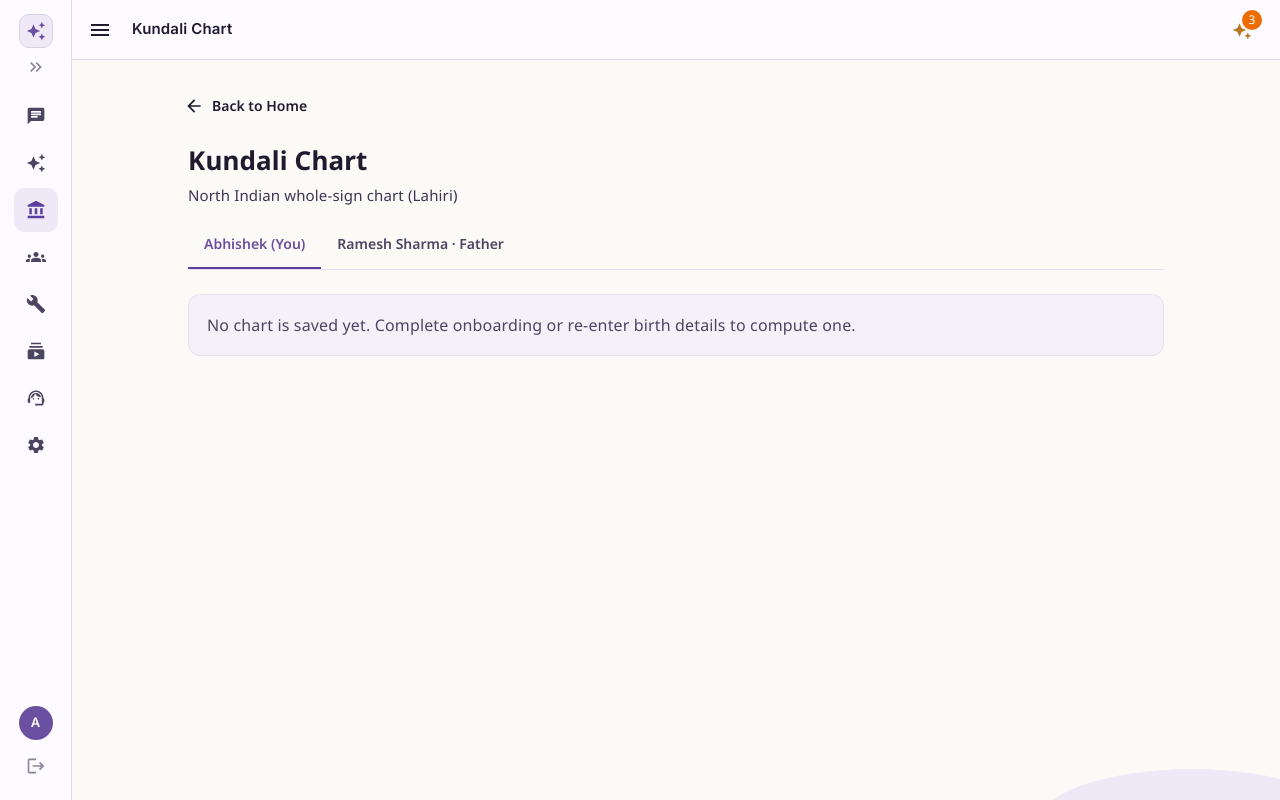
Scenario: kundali page back link returns to the chat home page
Click the button "Back to Home".
click(260, 106)  # box [188,88,331,124]
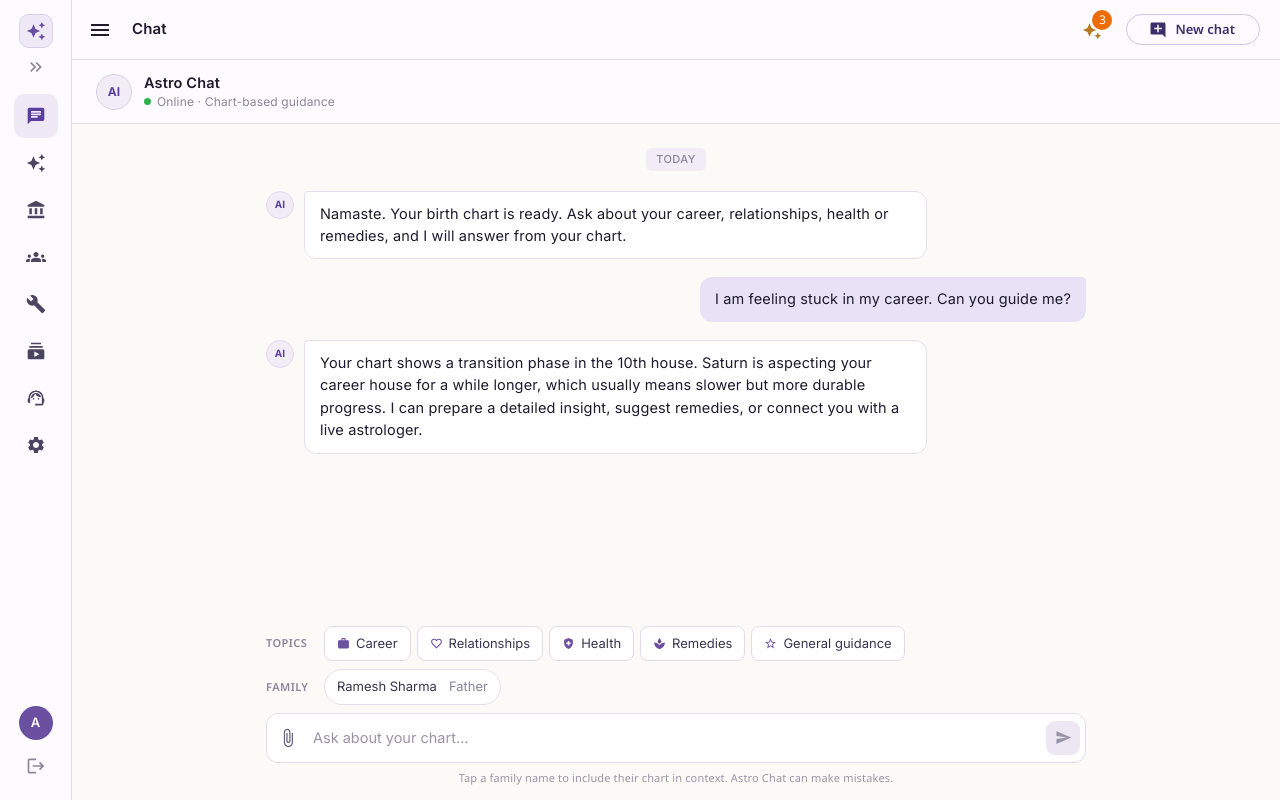
Now the field with placeholder "Ask about your chart…" is shown, box [307,719,1042,757]
